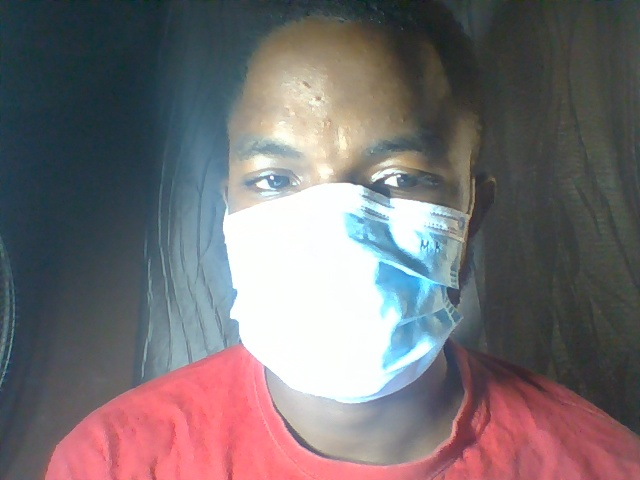MaskOn: (214, 11, 528, 410)
